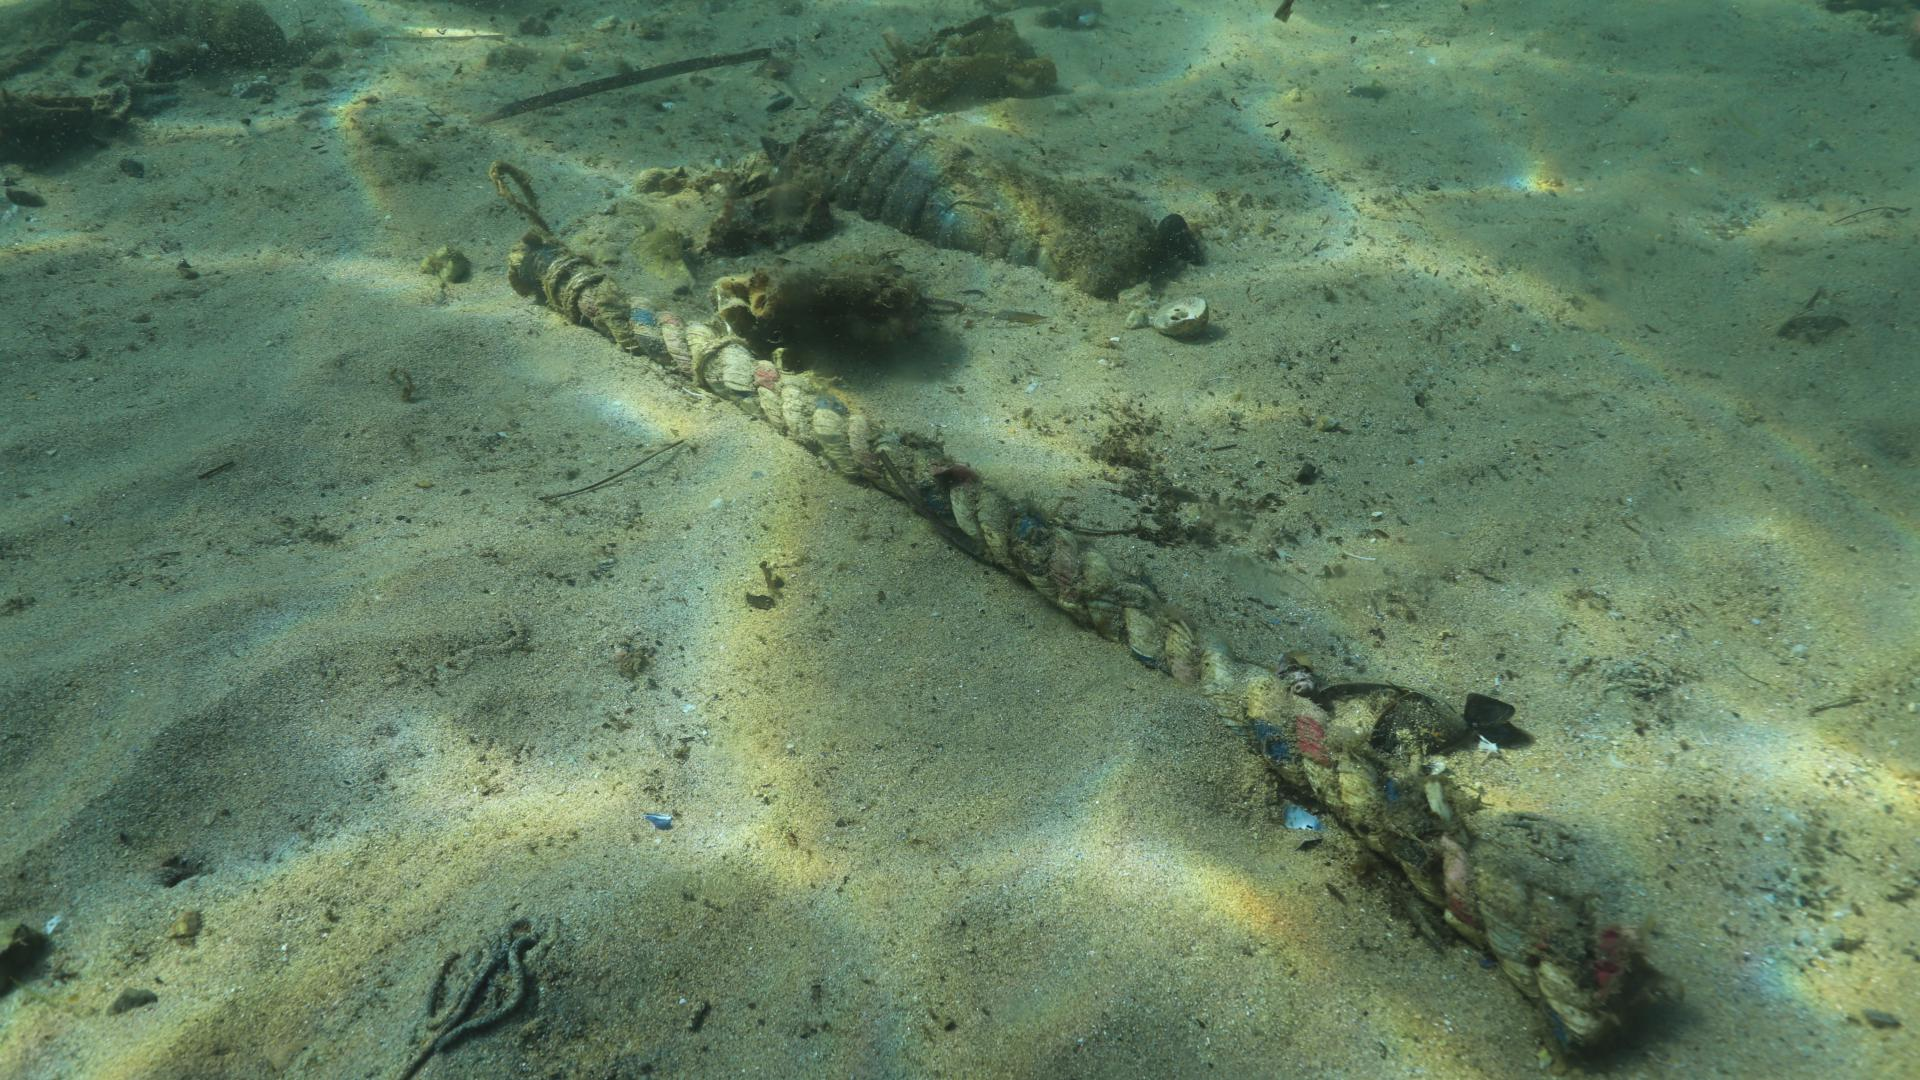rope: (506, 229, 1662, 1047)
